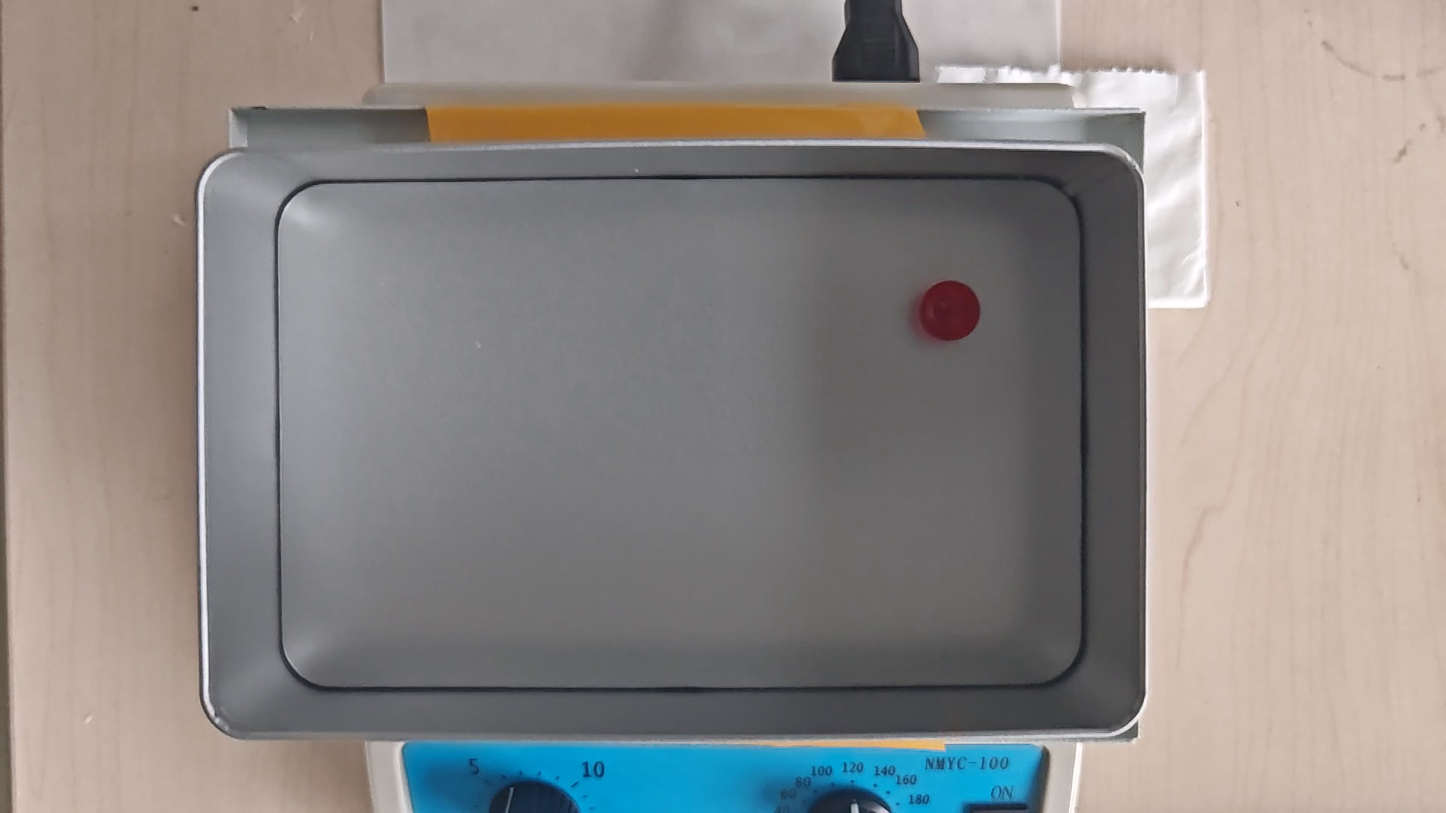ball: (920, 280, 981, 342)
container: (275, 180, 1085, 689)
